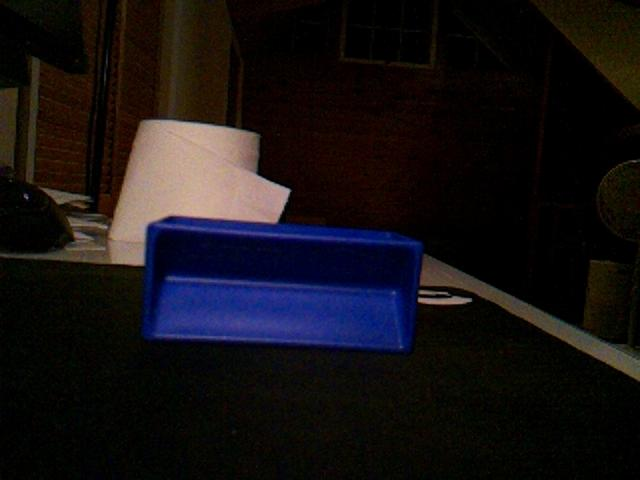blue: (140, 213, 425, 355)
